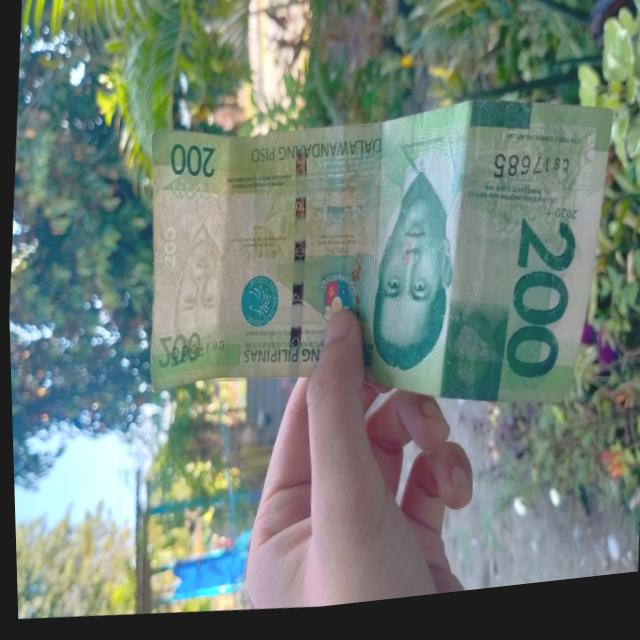concealed_value: (430, 299, 511, 426)
security_thread: (275, 136, 316, 378)
see_through_mark: (166, 175, 237, 214)
serial_number: (478, 152, 575, 201)
value: (498, 213, 582, 398)
value_watermark: (158, 221, 179, 279)
watermark: (159, 197, 241, 357)
